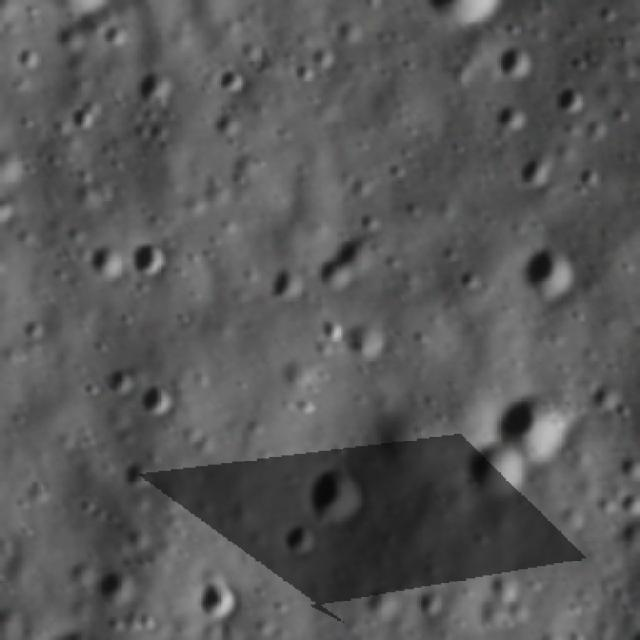crater: (499, 380, 573, 458), (293, 458, 370, 524), (308, 230, 377, 301), (458, 441, 522, 504), (516, 242, 579, 304), (190, 575, 242, 619), (268, 258, 312, 308), (344, 317, 390, 363), (85, 240, 129, 288), (136, 376, 178, 426), (490, 93, 536, 136), (509, 144, 551, 190), (130, 236, 172, 282), (279, 516, 327, 556), (497, 39, 537, 86), (356, 586, 402, 626), (96, 564, 136, 608), (136, 64, 176, 108), (121, 455, 156, 497), (554, 77, 588, 120), (104, 359, 141, 398), (317, 308, 352, 346), (67, 99, 101, 138), (588, 378, 624, 414), (214, 64, 251, 99), (334, 15, 369, 51), (484, 566, 521, 600), (409, 585, 446, 618), (572, 162, 612, 192), (100, 19, 135, 52), (13, 42, 44, 72), (288, 59, 318, 86), (618, 488, 640, 520), (455, 268, 483, 289), (597, 2, 620, 23)
